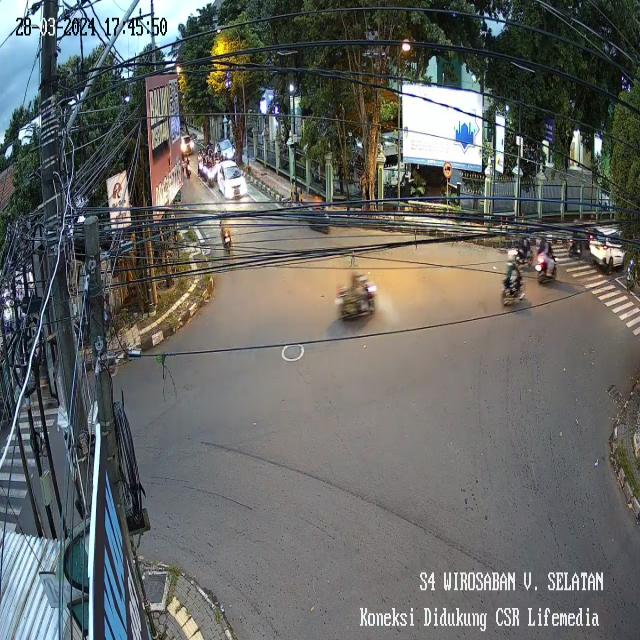car: (585, 221, 633, 275), (216, 160, 251, 201), (216, 135, 237, 161), (180, 131, 197, 156)
motorcycle: (336, 263, 384, 329), (303, 199, 336, 236), (499, 266, 525, 312), (504, 235, 538, 270), (540, 250, 560, 292), (219, 216, 236, 257), (199, 154, 205, 181), (208, 168, 216, 188), (185, 162, 192, 182), (204, 162, 208, 186)
